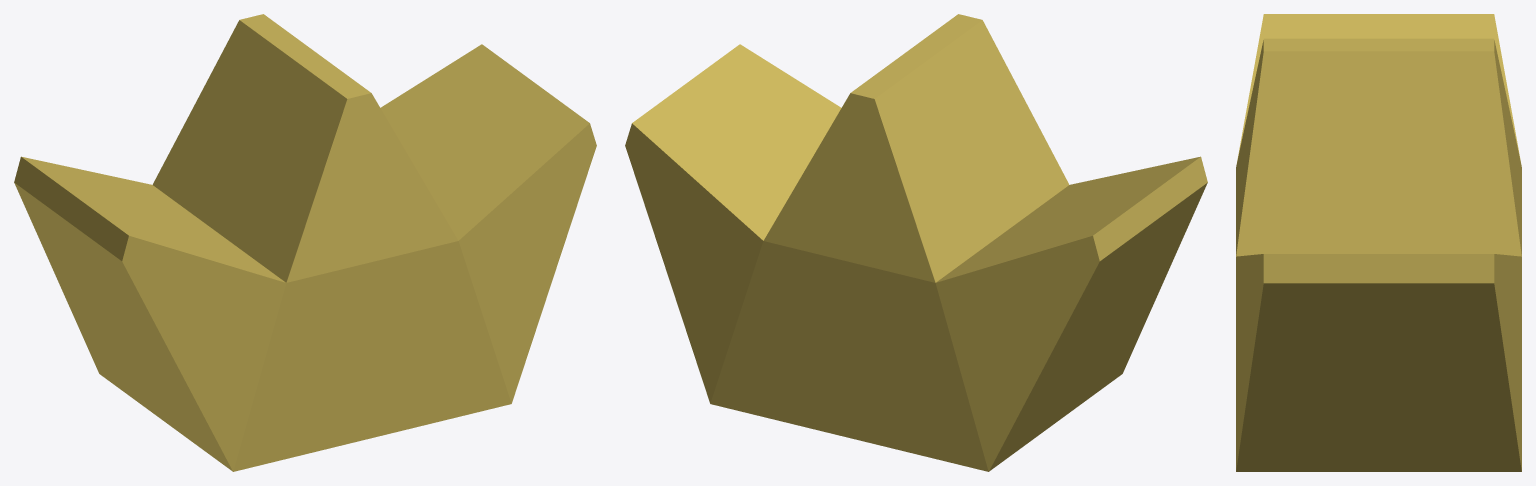
The model's file is Crown.fbx.
The picture shows the model from 3 angles, left to right: view 1: azimuth 30°, elevation 25°; view 2: azimuth 150°, elevation 25°; view 3: azimuth 270°, elevation 25°; orthographic projection. The views are drawn at different scales.
Parts seen in each view (by area): view 1: Crown; view 2: Crown; view 3: Crown.
Part boxes in pixels (x1=…): Crown: x1=14, y1=14, x2=596, y2=471; Crown: x1=625, y1=14, x2=1207, y2=471; Crown: x1=1236, y1=14, x2=1521, y2=471.
Size of the model in its own units: 41.14 by 27.53 by 20.11.
